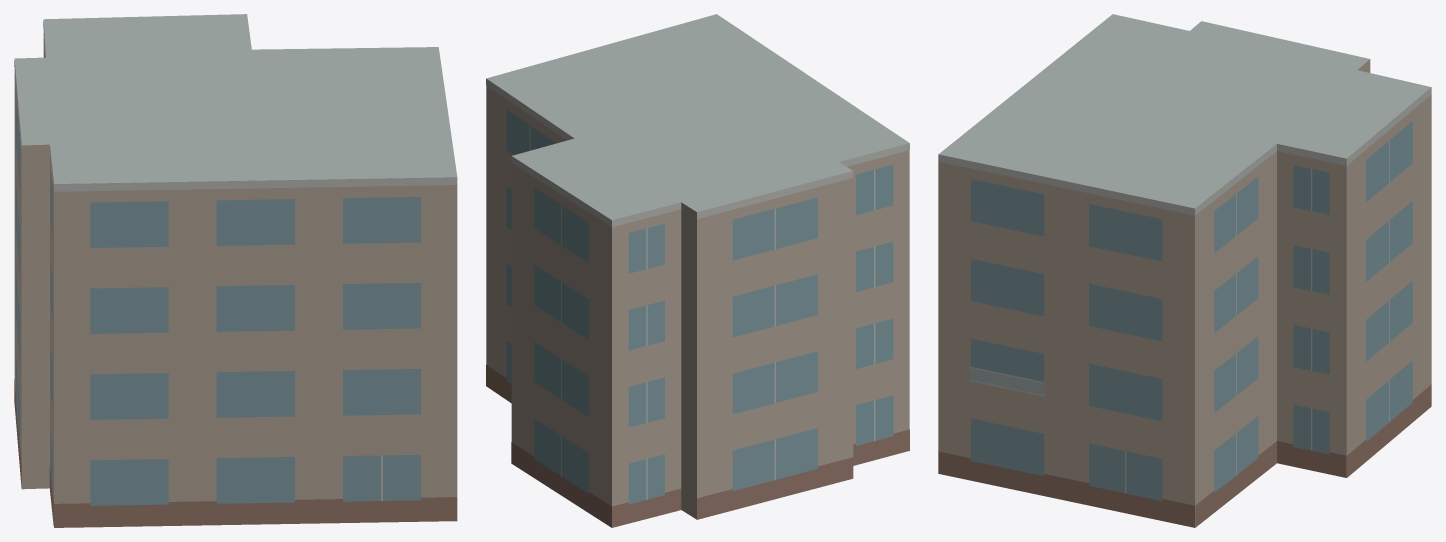
File: survey-upis-32506005.glb
The picture shows the model from 3 angles, left to right: view 1: azimuth 30°, elevation 25°; view 2: azimuth 150°, elevation 25°; view 3: azimuth 270°, elevation 25°; orthographic projection. The views are drawn at different scales.
Visible parts, largest first — view 1: survey-upis-32506005.tmp; view 2: survey-upis-32506005.tmp; view 3: survey-upis-32506005.tmp.
Part boxes in pixels (left/top/right/bottom): survey-upis-32506005.tmp: left=14, top=14, right=457, bottom=527; survey-upis-32506005.tmp: left=486, top=14, right=909, bottom=527; survey-upis-32506005.tmp: left=938, top=14, right=1431, bottom=527.
Bounding box in the file's own units: 14.12 × 10.8 × 15.12.
